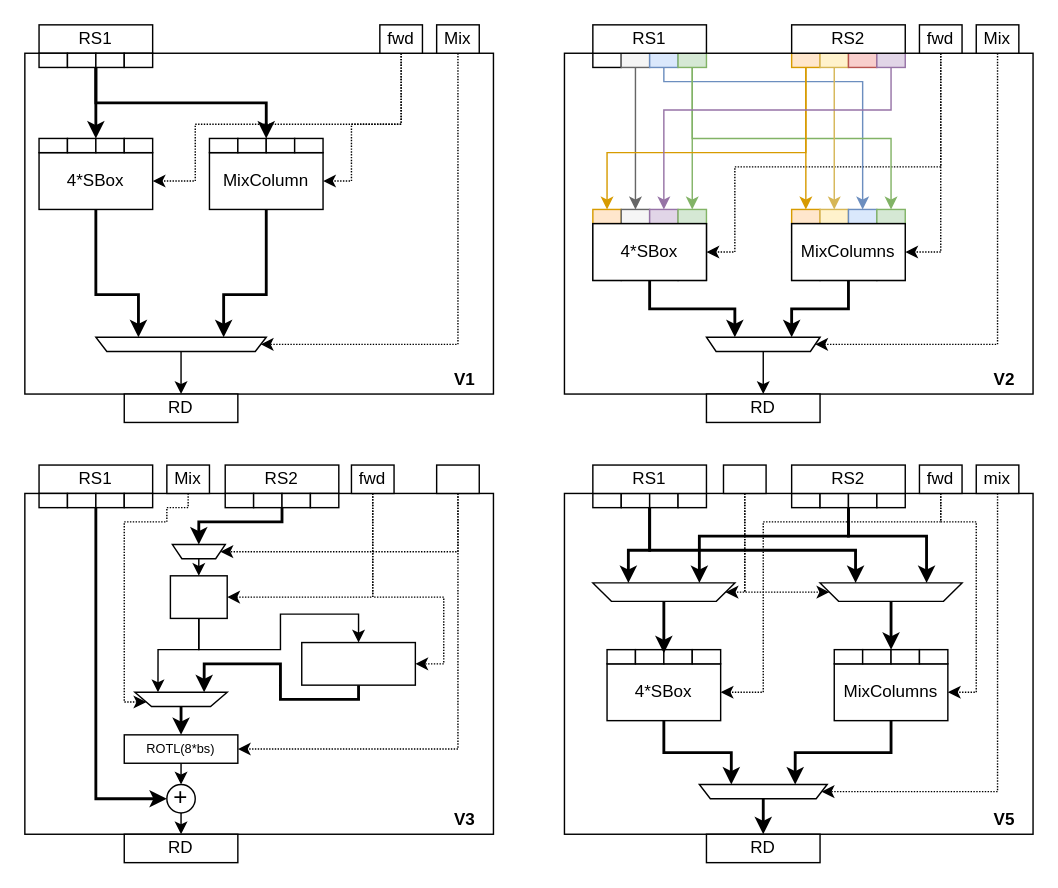
Image size: 1058x888. Some labels were removed from this diagram. Here are the shapes that lost their labels. From the top down, the centre of each, then its label:
At [457,478]: "BS".
At [744,478]: "hi".
At [198,596]: "SBox".
At [357,663]: "GF(2^8)".
